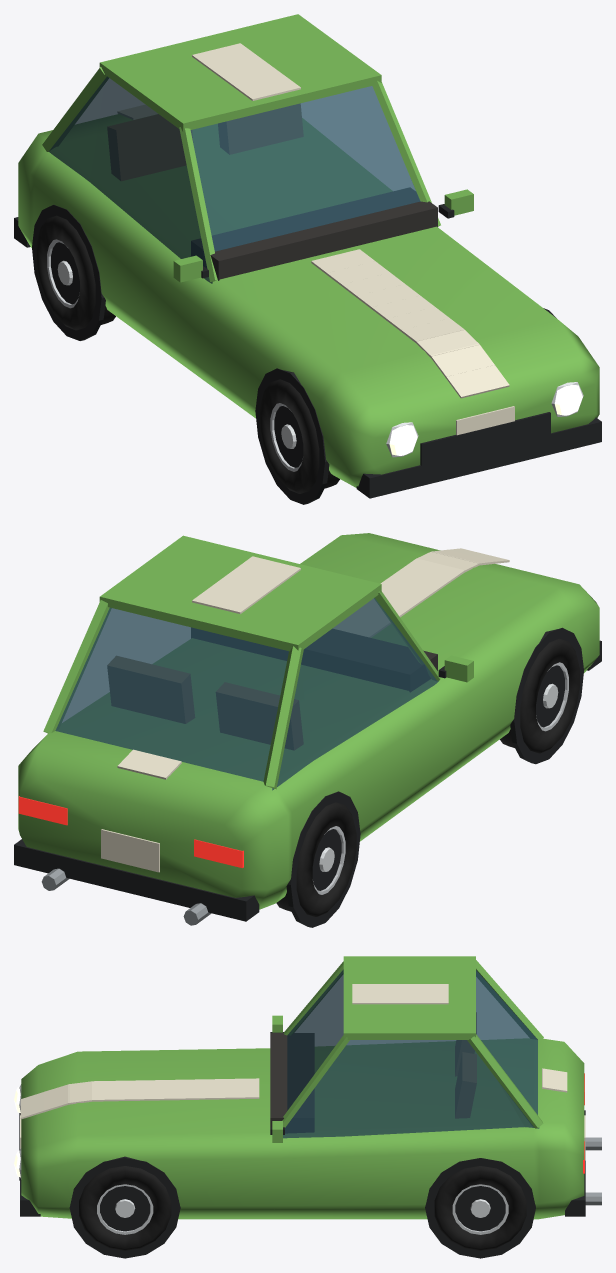
File: grove-classic.glb
3 renders of one model, top to bottom at view 1: azimuth 30°, elevation 25°; view 2: azimuth 150°, elevation 25°; view 3: azimuth 270°, elevation 25°, orthographic. The views are drawn at different scales.
Visible parts, largest first — view 1: body, wheel_FR, wheel_RR, plate_F, headlight_R, headlight_L; view 2: body, wheel_RR, wheel_FR, plate_R, taillight_R, taillight_L; view 3: body, wheel_FL, wheel_RL.
Boxes of the visible parts, x1,y1,x2,y2 form: body: (14,14,601,504); wheel_FR: (259,379,339,493); wheel_RR: (36,215,115,330); plate_F: (456,406,514,435); headlight_R: (386,422,418,457); headlight_L: (551,382,583,416); body: (14,533,601,927); wheel_RR: (276,802,356,916); wheel_FR: (500,638,579,753); plate_R: (101,829,159,872); taillight_R: (194,839,243,868); taillight_L: (18,796,67,825); body: (19,956,585,1258); wheel_FL: (79,1166,171,1250); wheel_RL: (434,1166,526,1250).
Bounding box in the file's own units: 1.82 × 1.6 × 3.97.
